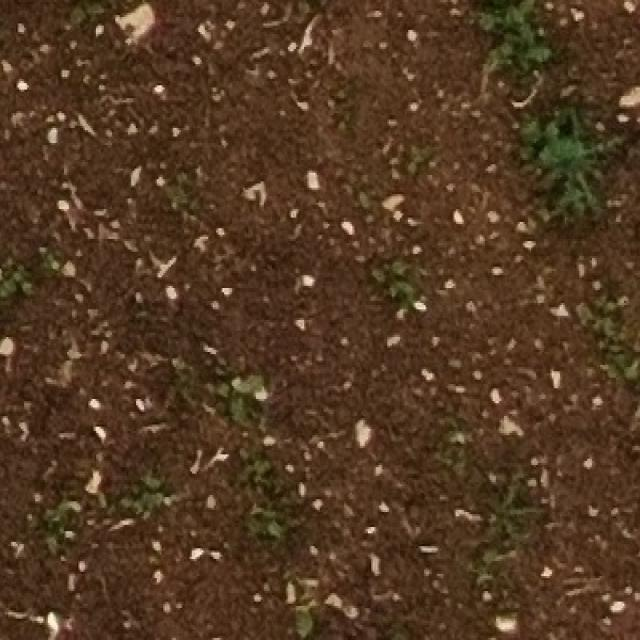cirse: (537, 118, 616, 230), (528, 125, 602, 237), (548, 121, 622, 231), (480, 468, 561, 565), (486, 476, 566, 574), (469, 479, 552, 572)
